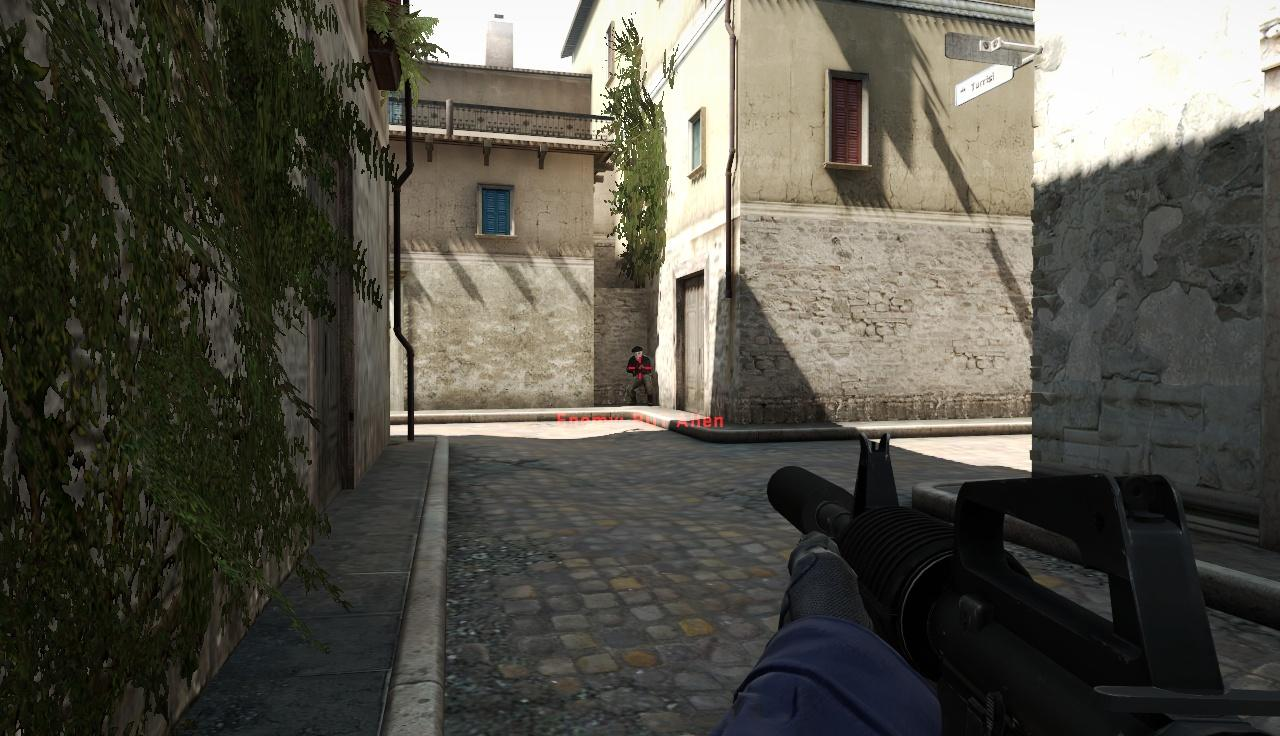rifle: (762, 427, 1280, 736)
tt: (628, 346, 652, 404)
tthead: (632, 347, 643, 360)
